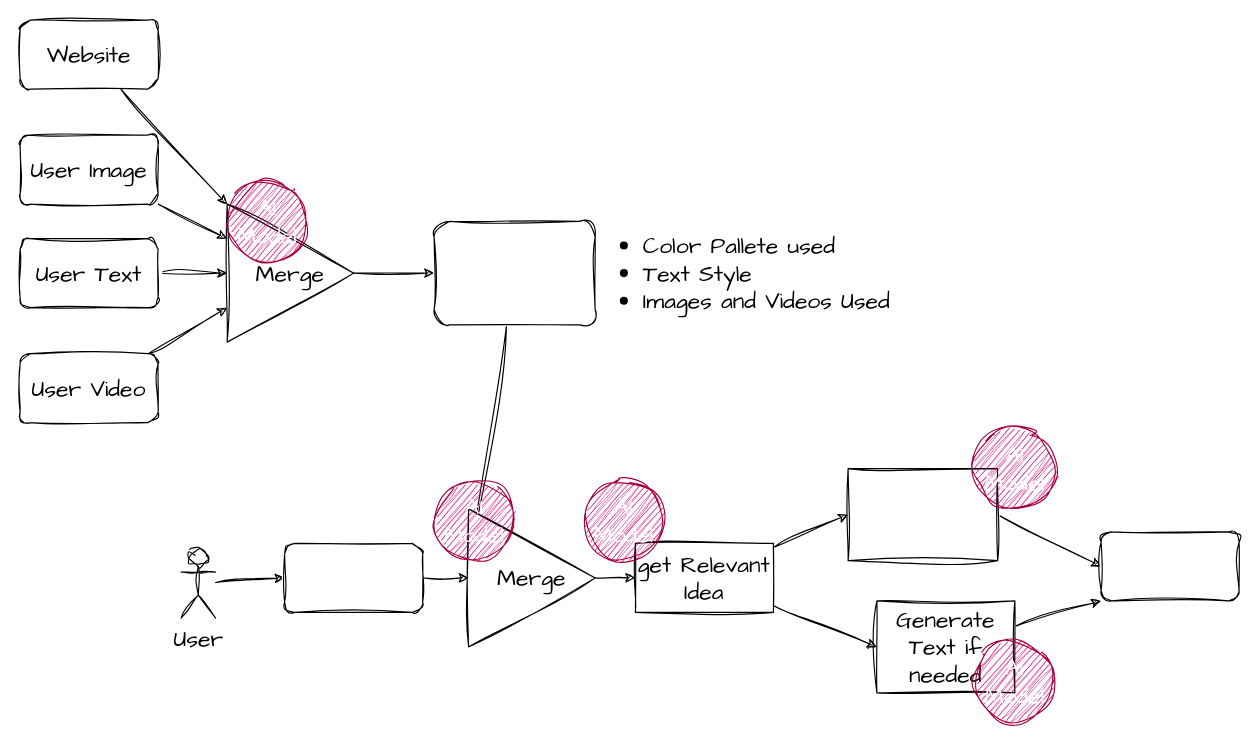
This 1259x742 diagram has some shape labels left out. The box of each missing label's shape, as (x1, y1, x2, y2) in pixels:
Brand Style: (433, 220, 595, 325)
Generate Assets If Needed: (847, 467, 998, 561)
Generate JSOn: (1100, 531, 1239, 601)
Inputs Idea: (283, 542, 423, 612)
